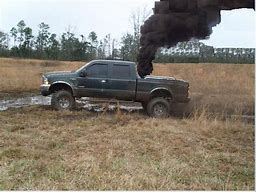smoke: (136, 1, 256, 77)
